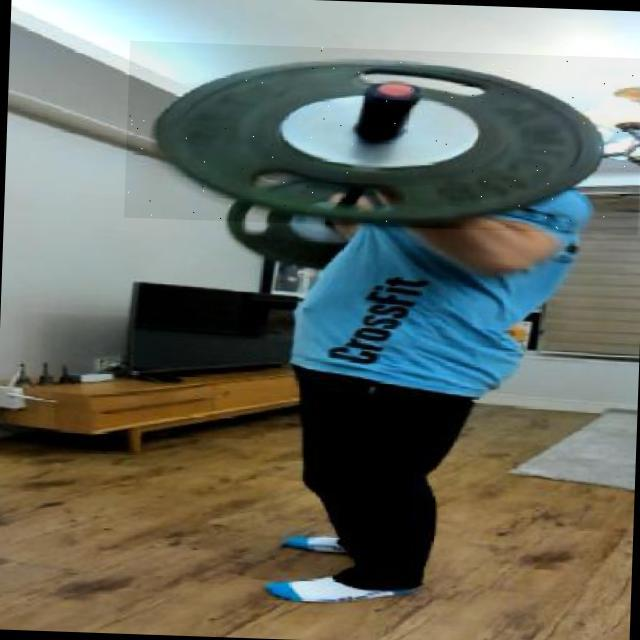barbell: (125, 41, 640, 236)
